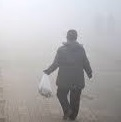person: (43, 29, 94, 122)
